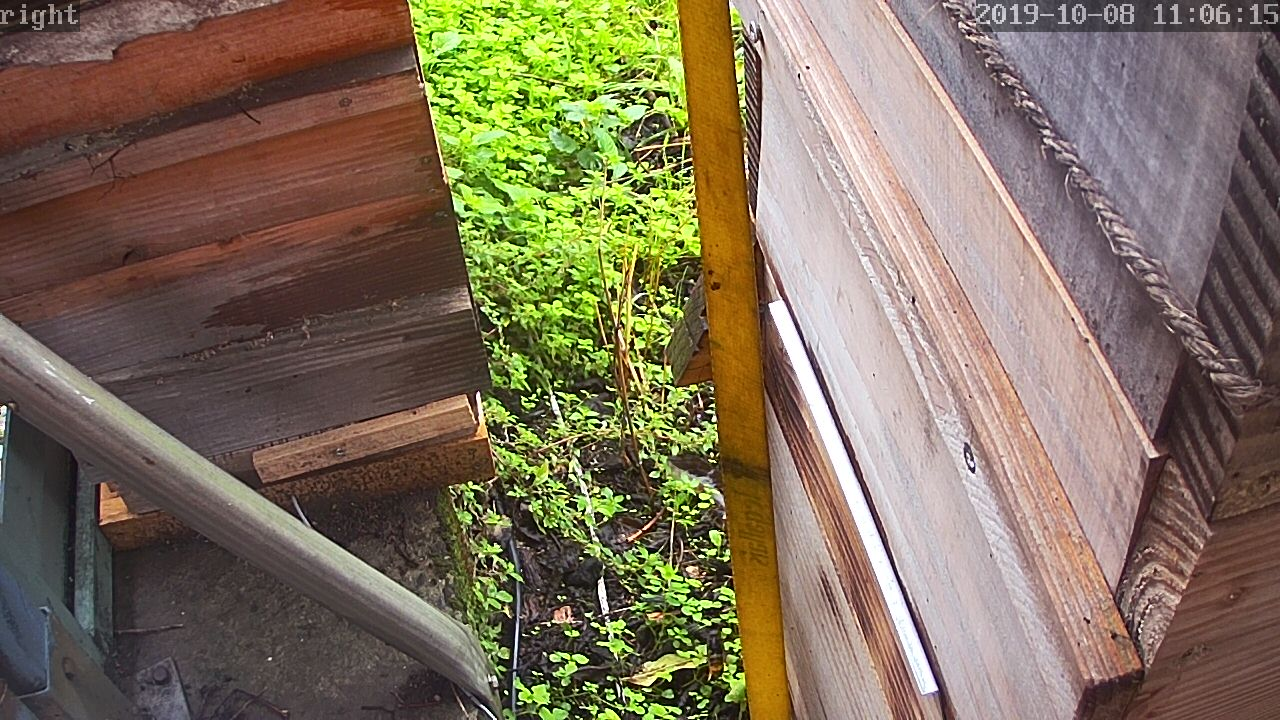hornet: (710, 529, 740, 593)
